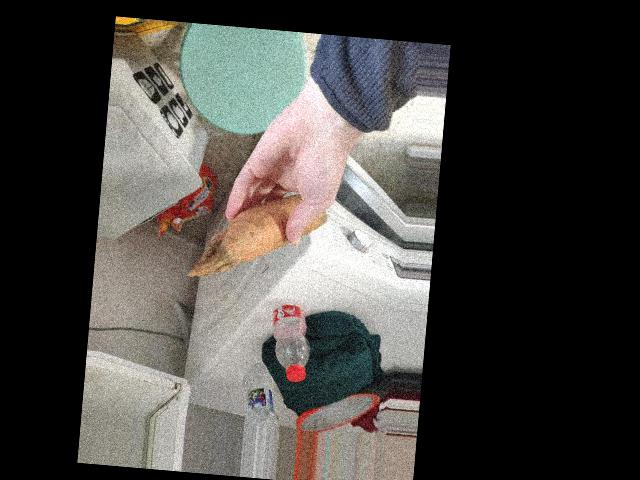sweet_potato: (224, 179, 316, 270)
